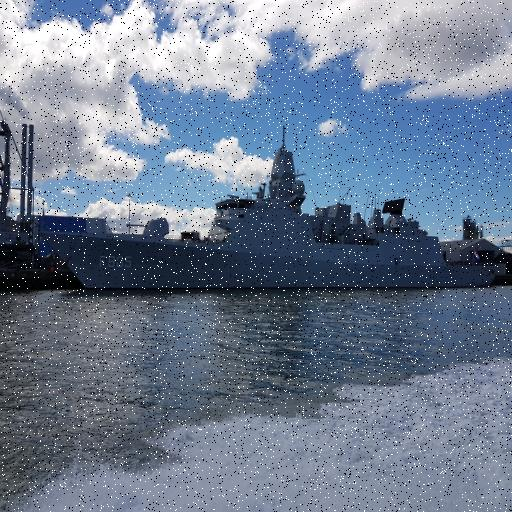Fragata: (41, 133, 512, 296)
